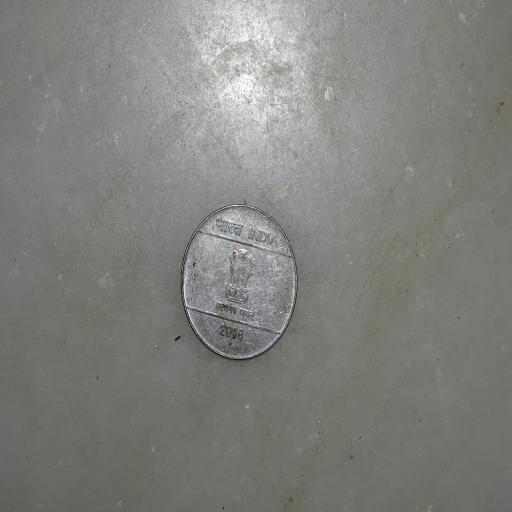rupee2: (175, 198, 302, 363)
